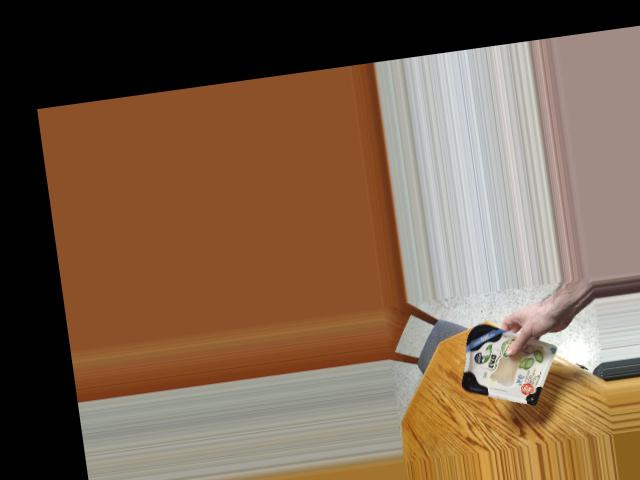cheese: (450, 320, 547, 411)
